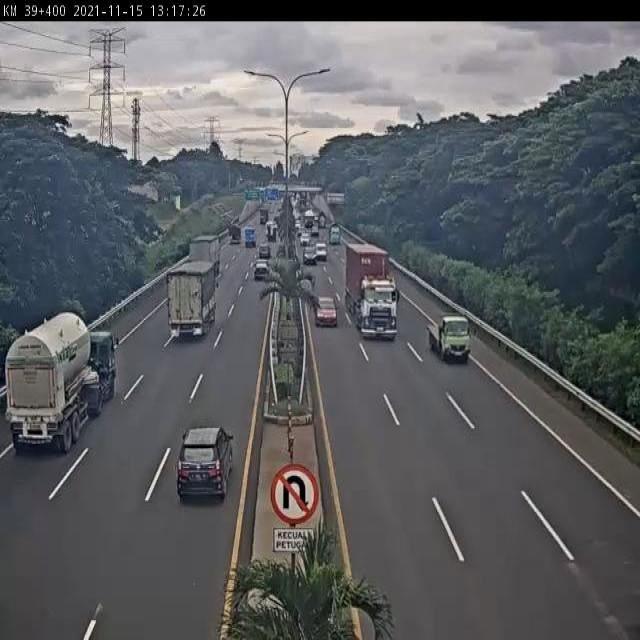Car: (160, 406, 234, 528), (313, 287, 342, 334), (253, 243, 272, 288), (300, 231, 318, 277)
Truck: (3, 287, 118, 456), (343, 227, 404, 346), (160, 252, 216, 349), (428, 295, 477, 374)
